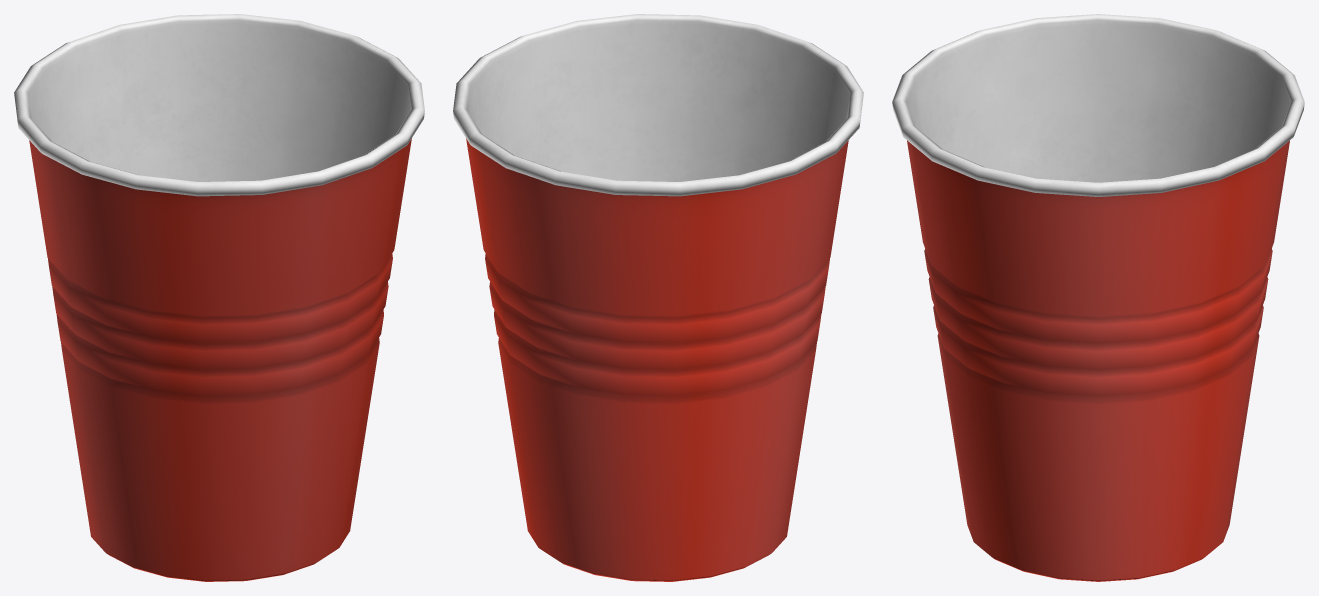
Rendered from CommunityRoomB_BeerpongCup.fbx.
The picture shows the model from 3 angles, left to right: view 1: azimuth 30°, elevation 25°; view 2: azimuth 150°, elevation 25°; view 3: azimuth 270°, elevation 25°; orthographic projection.
Visible parts, largest first — view 1: CommunityRoomB_BeerpongCup; view 2: CommunityRoomB_BeerpongCup; view 3: CommunityRoomB_BeerpongCup.
Part boxes in pixels (x1=…): CommunityRoomB_BeerpongCup: x1=14, y1=14, x2=424, y2=581; CommunityRoomB_BeerpongCup: x1=453, y1=14, x2=863, y2=581; CommunityRoomB_BeerpongCup: x1=892, y1=14, x2=1304, y2=581.
Bounding box in the file's own units: 9.58 × 11.01 × 9.58.
